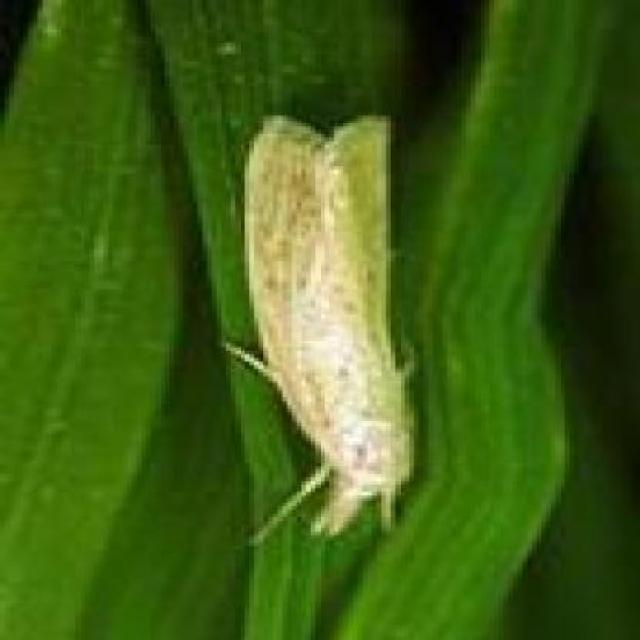stem-borer: (215, 112, 417, 550)
